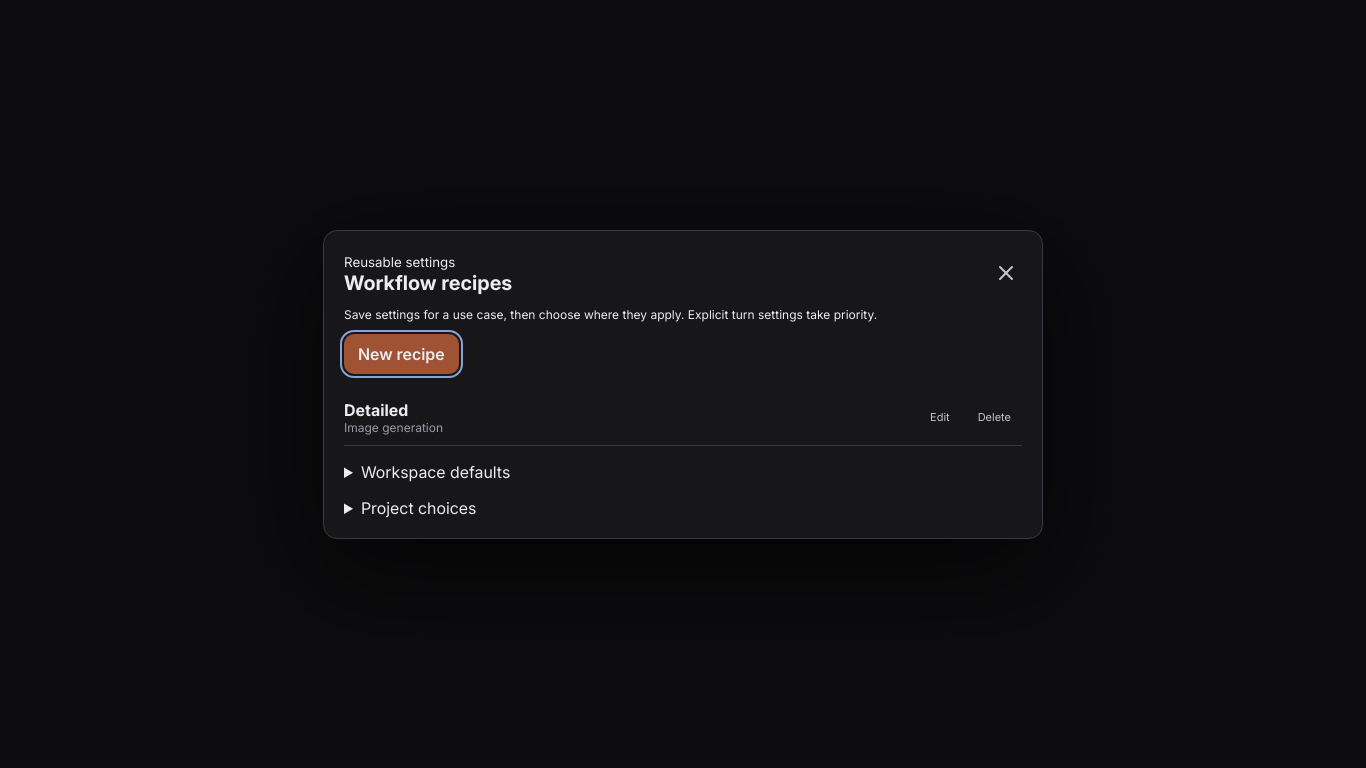
Test: keeps a failed save open and retains the entered name
The image size is (1366, 768).
Click the button with aria-label "Edit recipe Detailed" at (940, 417), box [919, 402, 961, 432]
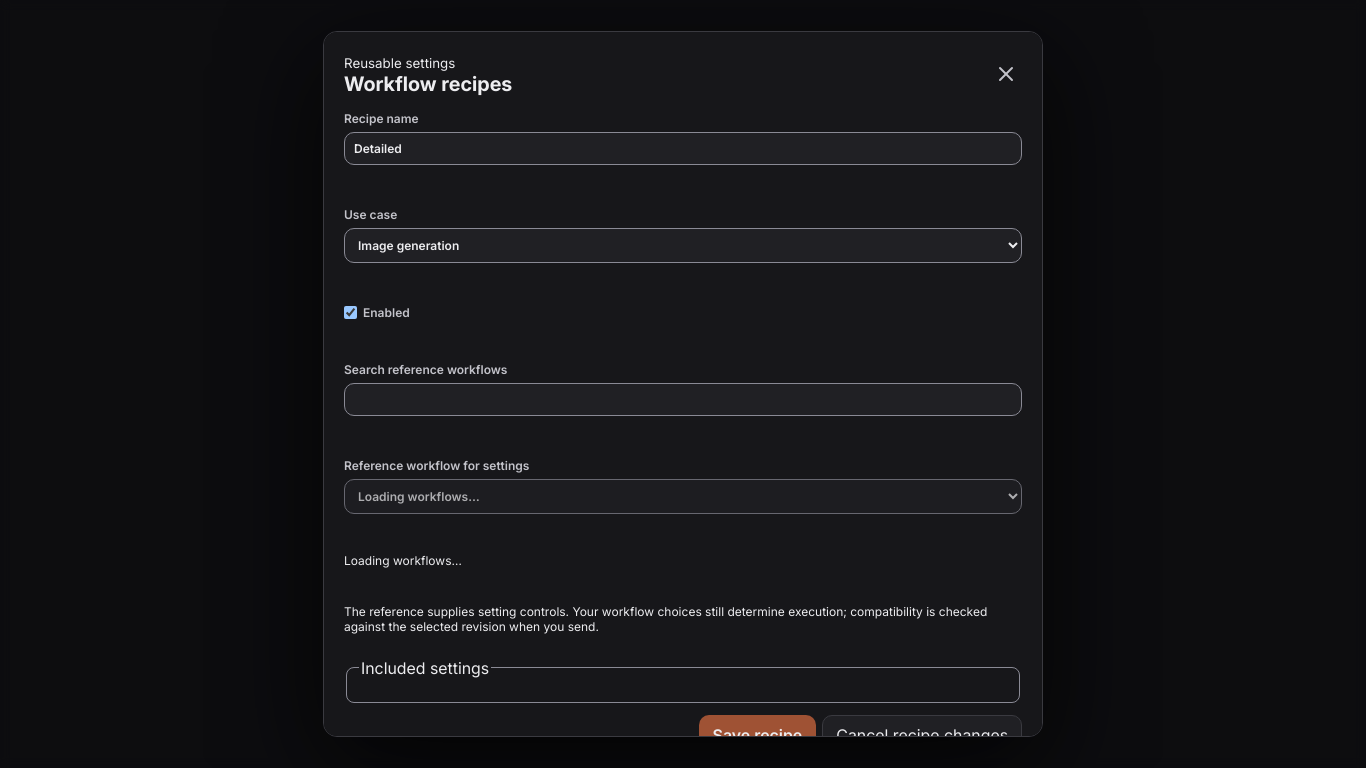
Replace the text in the field labelled "Recipe name" with "Retained draft" at (683, 148), box [344, 132, 1022, 165]
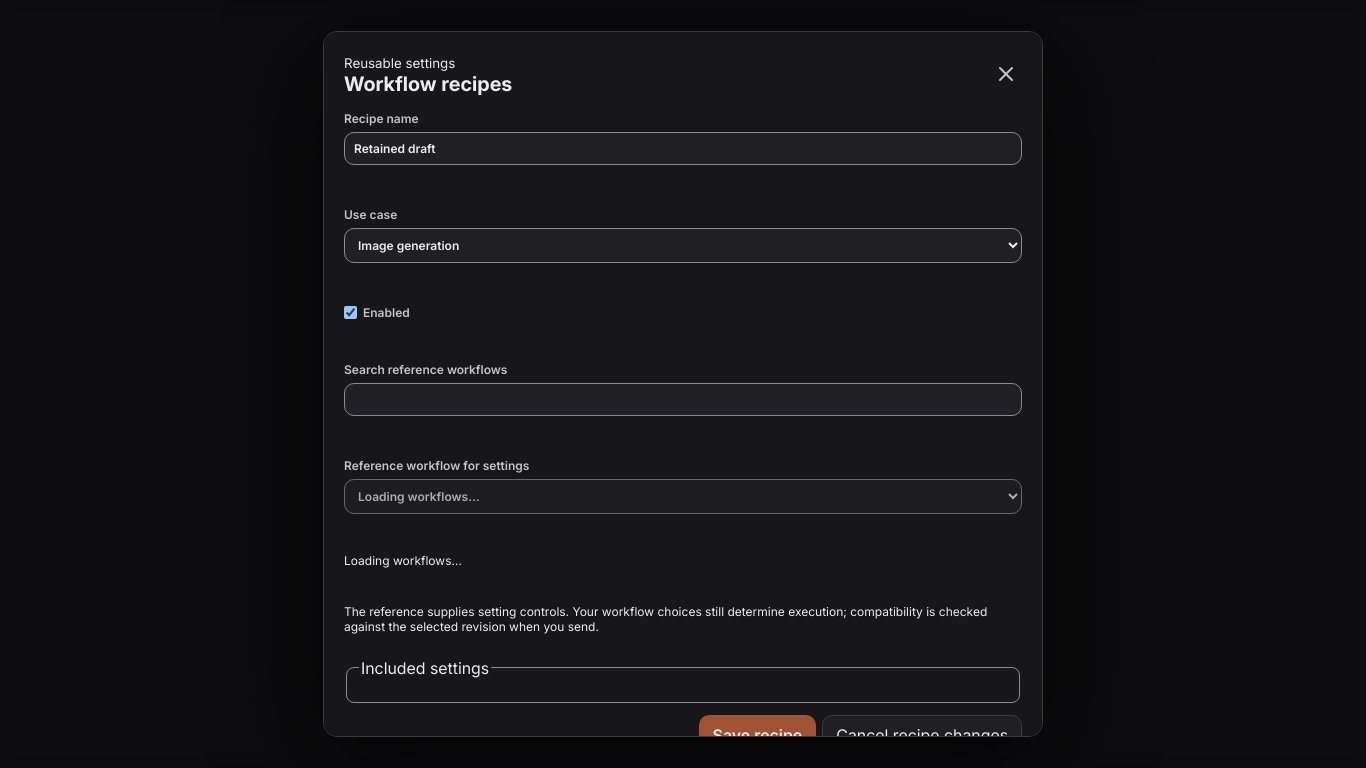
Click the button "Save recipe" at (757, 735), box [698, 715, 816, 755]
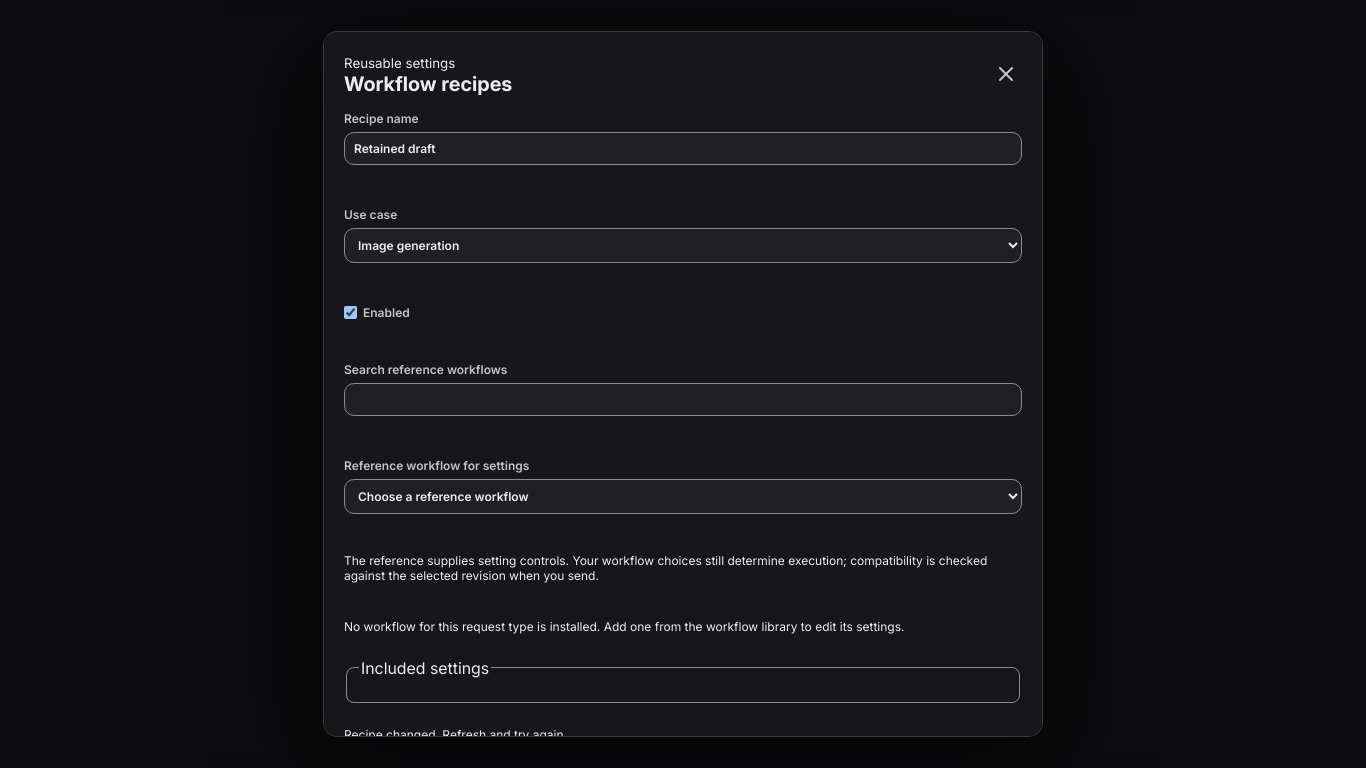
Now the text "Recipe changed. Refresh and try again." is shown, box [344, 727, 567, 737]
